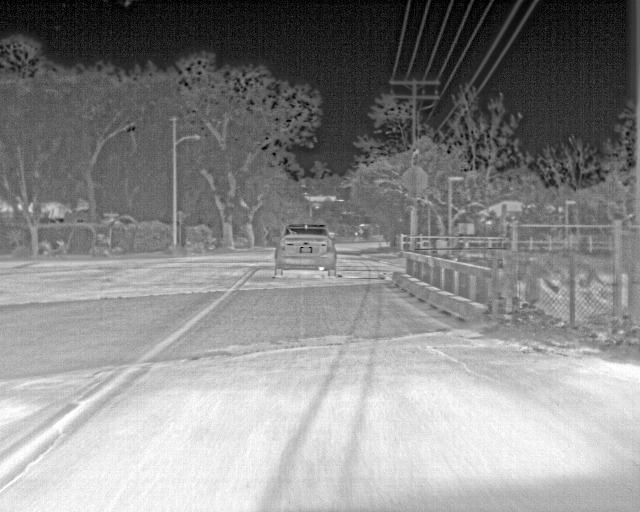car: (273, 222, 339, 280)
